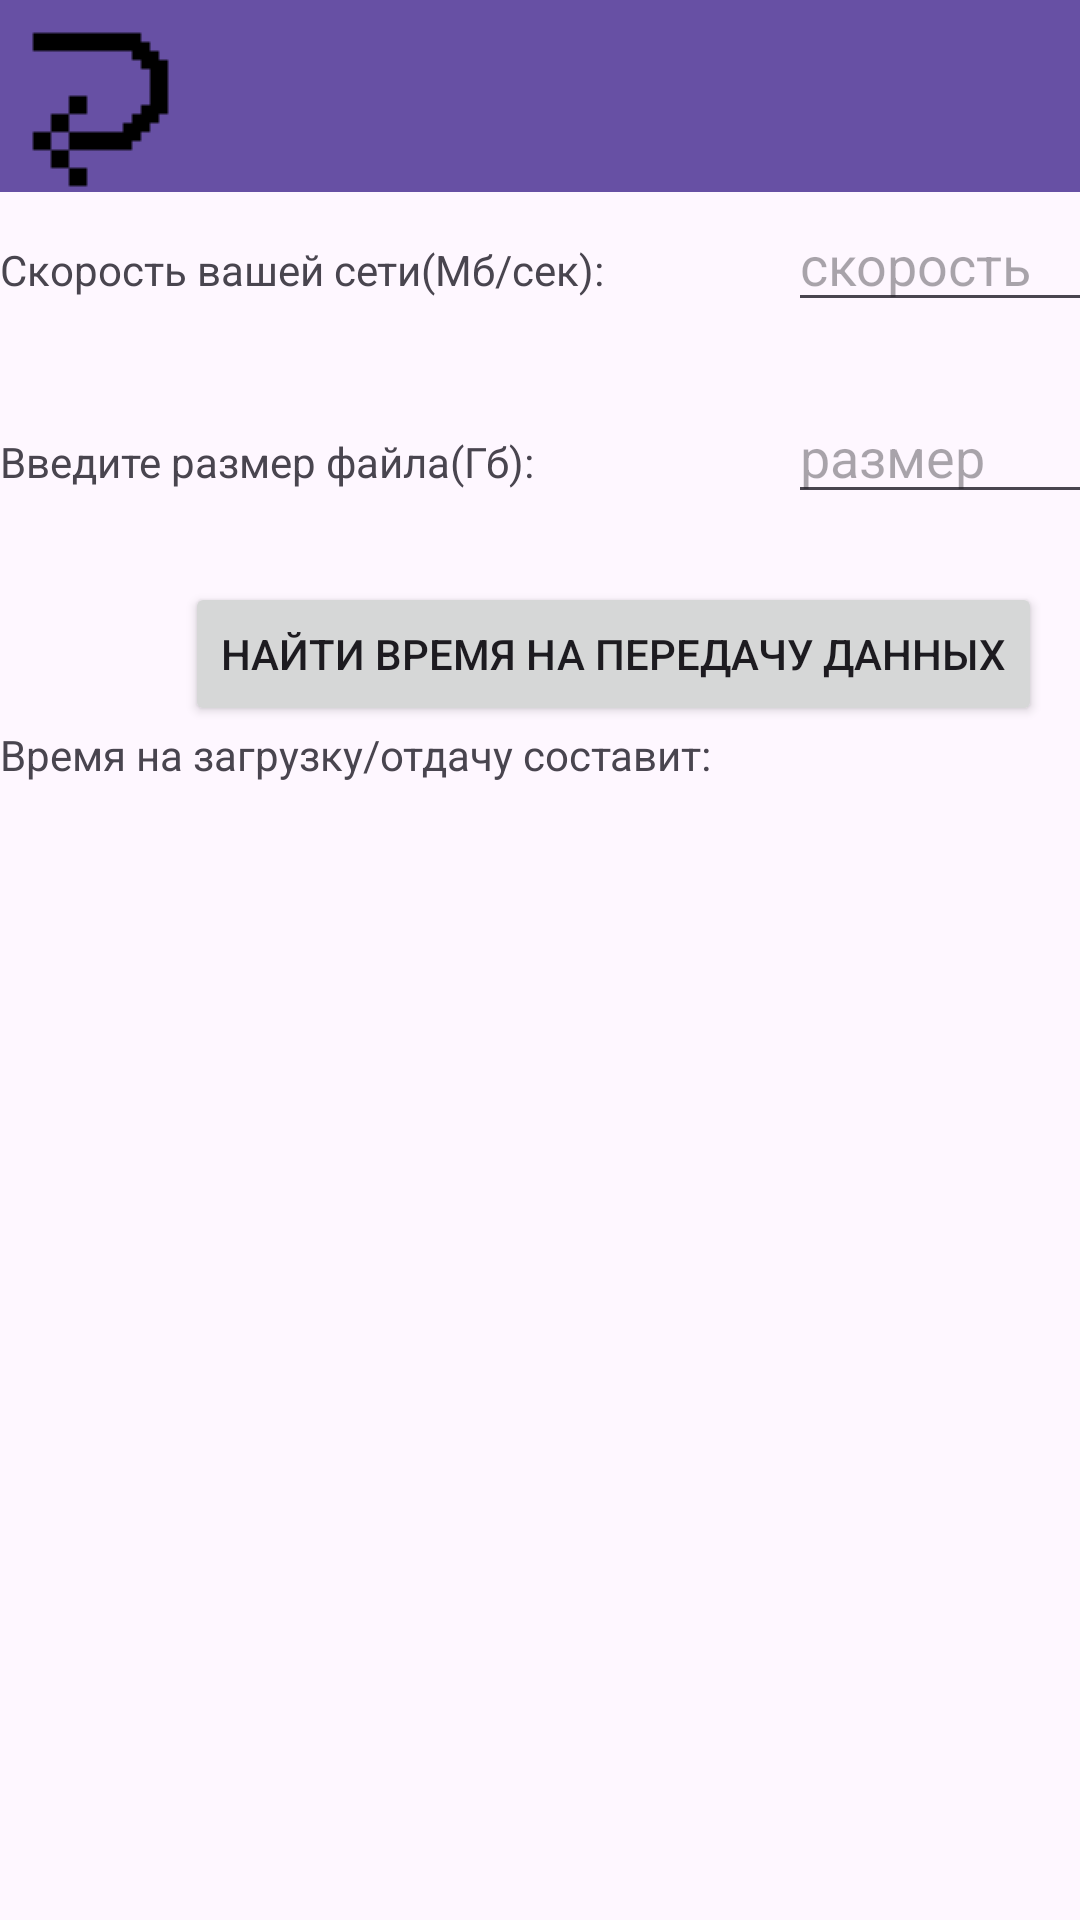

Icons on this 1080w x 1920h Android screen, each with the point to tap as point (x, y):
arrow go back: point (100, 109)
